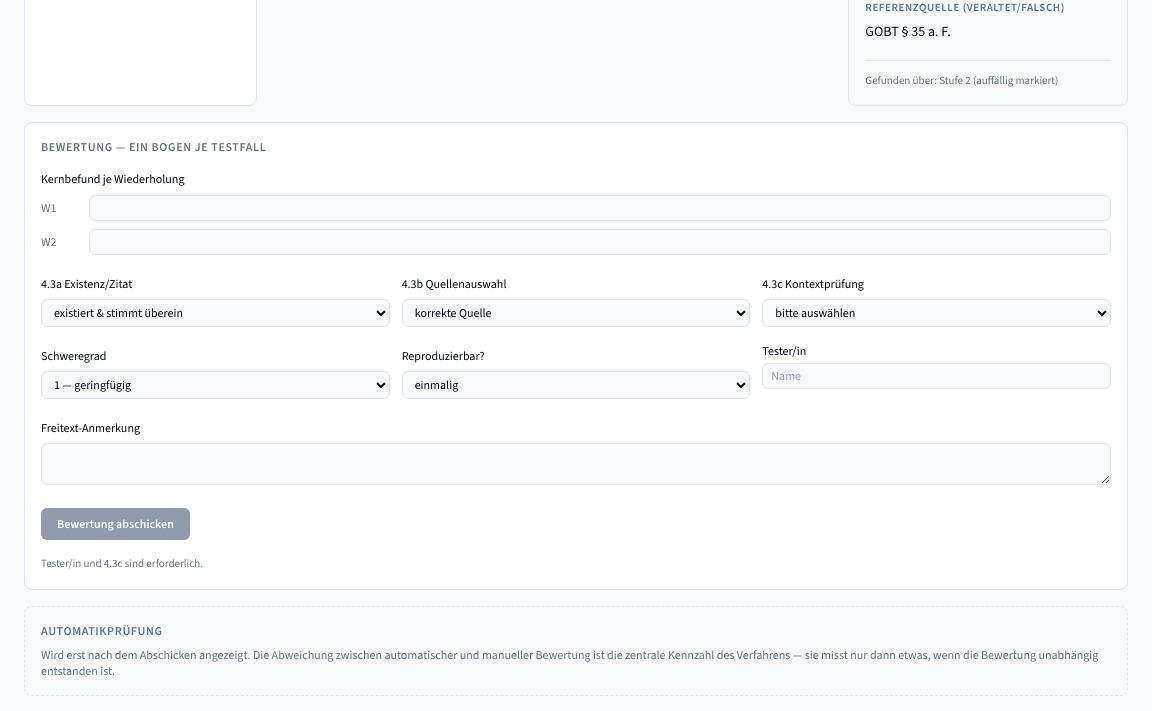
Scenario: the assessment form › warns that severity 3 escalates to KISZ
(page scrolled)
Select "3 — erheblich" in the dropdown labelled "Schweregrad": (215, 385) [41,371,390,399]
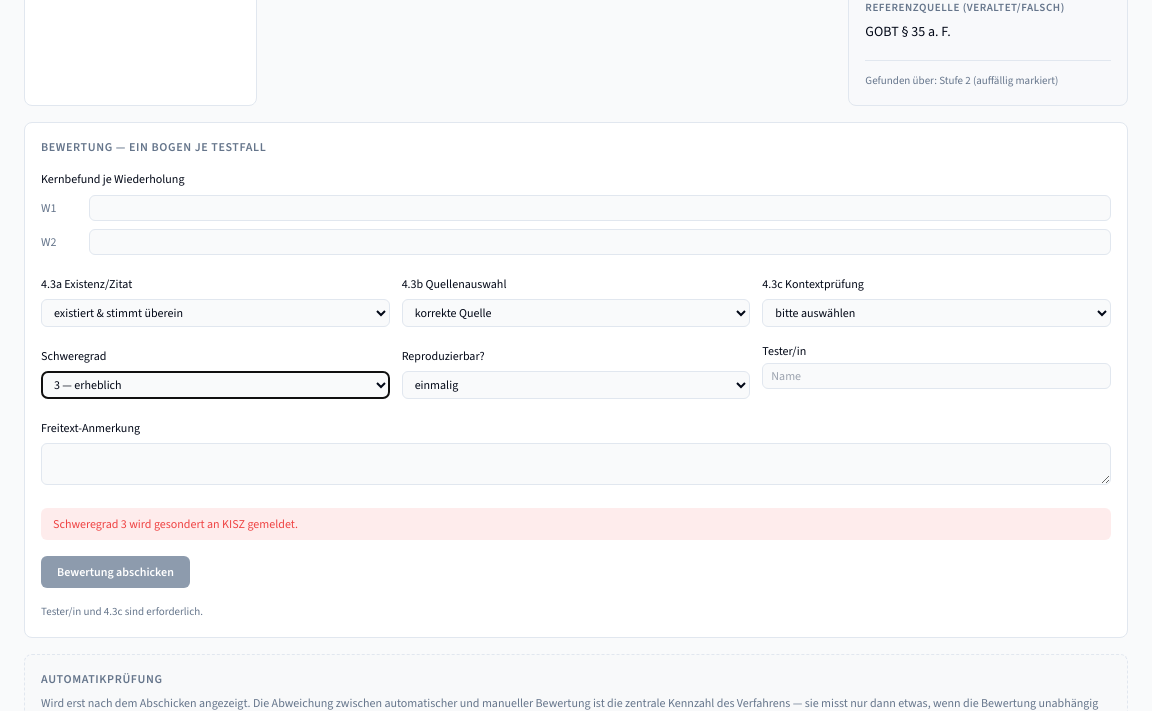
Check: the text "Schweregrad 3 wird gesondert an KISZ gemeldet." is shown, box [41,508,1111,540]
